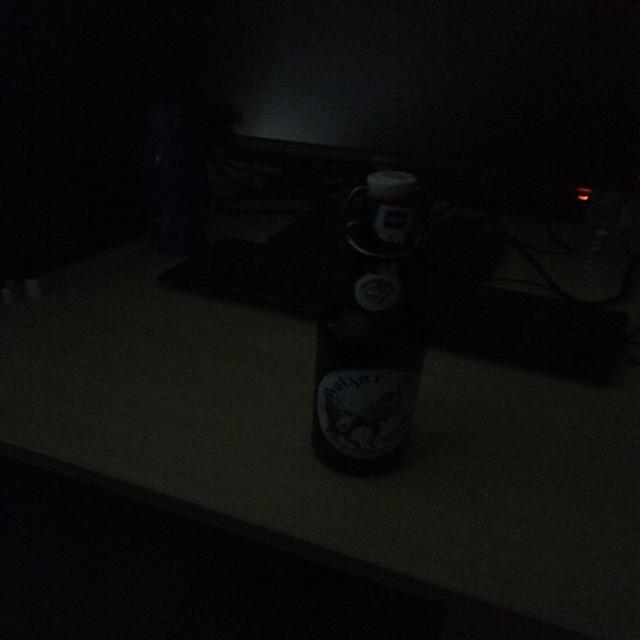Bottle: (296, 146, 487, 517), (122, 100, 233, 275)
Table: (0, 128, 640, 640)
